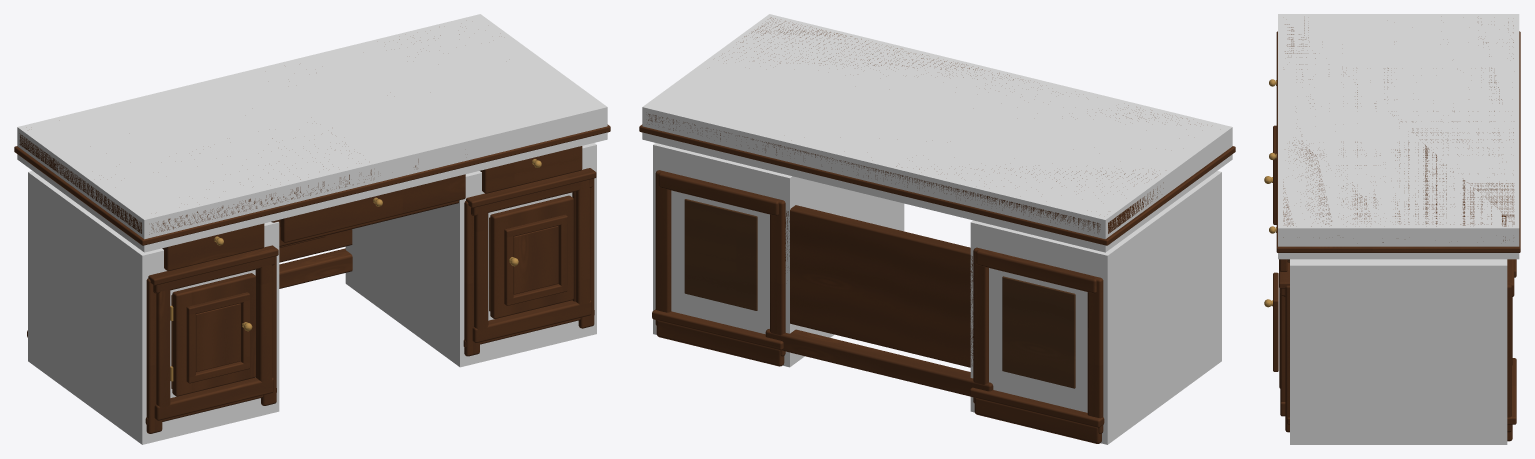
File: premium.glb
The picture shows the model from 3 angles, left to right: view 1: azimuth 30°, elevation 25°; view 2: azimuth 150°, elevation 25°; view 3: azimuth 270°, elevation 25°; orthographic projection. The views are drawn at different scales.
Visible parts, largest first — view 1: COL_Desk_Premium_Desktop, COL_Desk_Premium_LeftPedestal, BATCH_Body_Desk_Premium_Body, COL_Desk_Premium_RightPedestal, BATCH_CabinetDoor_Right_Desk_Premium_Body, BATCH_CabinetDoor_Left_Desk_Premium_Body, BATCH_Desktop_Desk_Premium_Surface, BATCH_Drawer_Center_Desk_Premium_Body, BATCH_ModestyPanel_Desk_Premium_Body, BATCH_Drawer_Left_Top_Desk_Premium_Body, BATCH_Drawer_Right_Top_Desk_Premium_Body; view 2: COL_Desk_Premium_Desktop, COL_Desk_Premium_LeftPedestal, BATCH_ModestyPanel_Desk_Premium_Body, BATCH_Body_Desk_Premium_Body, BATCH_Body_Desk_Premium_InteriorOak, COL_Desk_Premium_RightPedestal, BATCH_Desktop_Desk_Premium_Surface; view 3: COL_Desk_Premium_Desktop, COL_Desk_Premium_RightPedestal, BATCH_Desktop_Desk_Premium_Surface, BATCH_Body_Desk_Premium_Body, BATCH_CabinetDoor_Right_Desk_Premium_Body, BATCH_CabinetDoor_Left_Desk_Premium_Body.
Boxes of the visible parts, bbox=[...] form: COL_Desk_Premium_Desktop: bbox=[17, 14, 607, 252]; COL_Desk_Premium_LeftPedestal: bbox=[28, 171, 279, 444]; BATCH_Body_Desk_Premium_Body: bbox=[27, 168, 596, 433]; COL_Desk_Premium_RightPedestal: bbox=[345, 143, 596, 367]; BATCH_CabinetDoor_Right_Desk_Premium_Body: bbox=[490, 195, 573, 318]; BATCH_CabinetDoor_Left_Desk_Premium_Body: bbox=[172, 273, 255, 396]; BATCH_Desktop_Desk_Premium_Surface: bbox=[14, 34, 610, 245]; BATCH_Drawer_Center_Desk_Premium_Body: bbox=[280, 174, 465, 242]; BATCH_ModestyPanel_Desk_Premium_Body: bbox=[279, 229, 352, 288]; BATCH_Drawer_Left_Top_Desk_Premium_Body: bbox=[164, 223, 264, 271]; BATCH_Drawer_Right_Top_Desk_Premium_Body: bbox=[482, 146, 582, 193]; COL_Desk_Premium_Desktop: bbox=[642, 14, 1232, 252]; COL_Desk_Premium_LeftPedestal: bbox=[970, 171, 1221, 444]; BATCH_ModestyPanel_Desk_Premium_Body: bbox=[765, 205, 993, 396]; BATCH_Body_Desk_Premium_Body: bbox=[652, 170, 1104, 443]; BATCH_Body_Desk_Premium_InteriorOak: bbox=[684, 199, 1075, 388]; COL_Desk_Premium_RightPedestal: bbox=[653, 143, 904, 367]; BATCH_Desktop_Desk_Premium_Surface: bbox=[639, 17, 1235, 245]; COL_Desk_Premium_Desktop: bbox=[1278, 14, 1519, 259]; COL_Desk_Premium_RightPedestal: bbox=[1290, 259, 1507, 444]; BATCH_Desktop_Desk_Premium_Surface: bbox=[1276, 20, 1520, 252]; BATCH_Body_Desk_Premium_Body: bbox=[1279, 259, 1516, 441]; BATCH_CabinetDoor_Right_Desk_Premium_Body: bbox=[1273, 272, 1280, 388]; BATCH_CabinetDoor_Left_Desk_Premium_Body: bbox=[1273, 125, 1276, 224].
Bounding box in the file's own units: 1.66 × 0.78 × 0.8295.
Materials: 5 (3 with a texture image).
